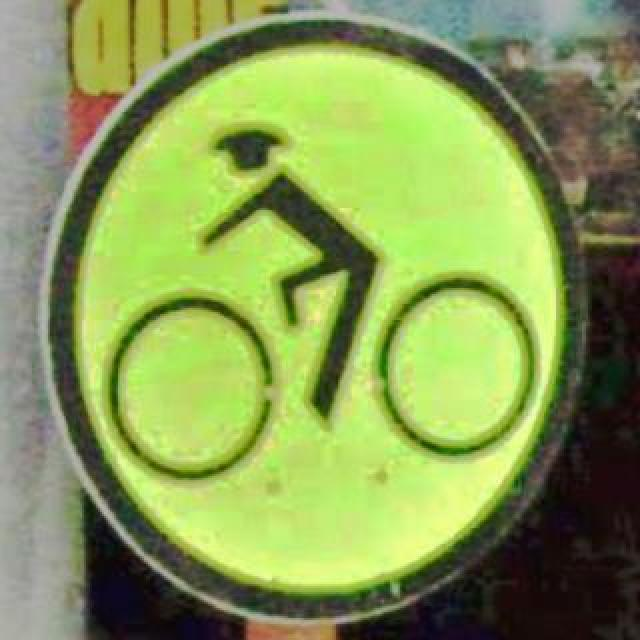bike lane: (38, 10, 586, 622)
